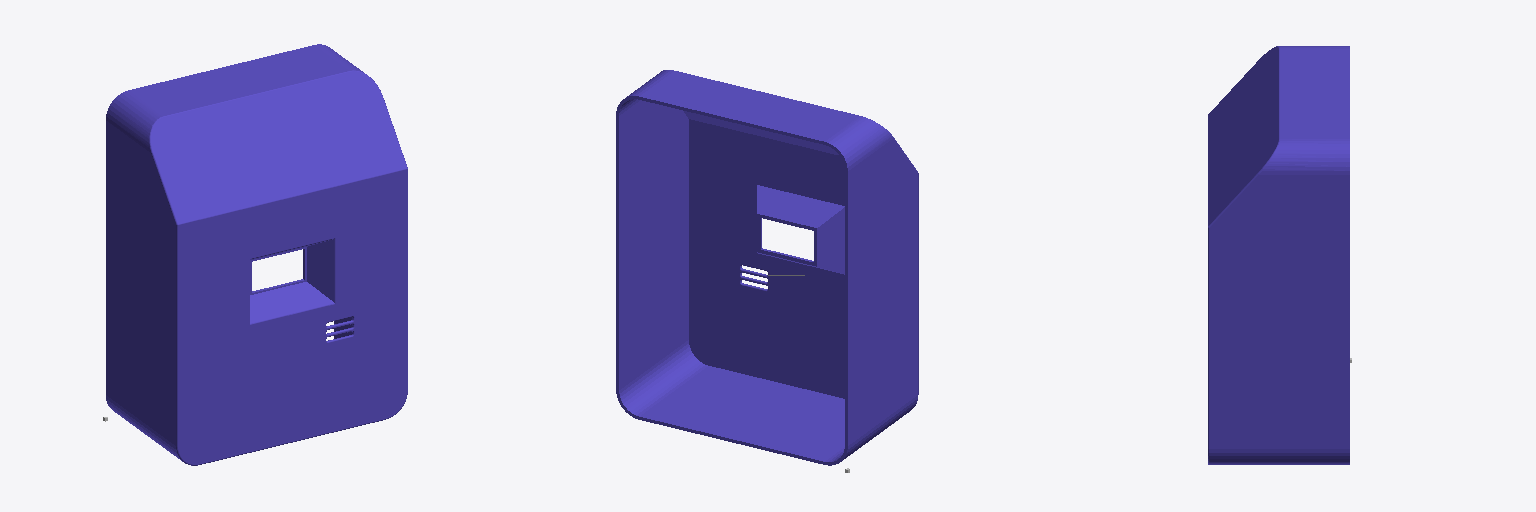
File: shell.obj
3 views of the same model, side by side, from view 1: azimuth 30°, elevation 25°; view 2: azimuth 150°, elevation 25°; view 3: azimuth 270°, elevation 25° (orthographic).
Visible parts, largest first — view 1: shell; view 2: shell; view 3: shell.
Boxes of the visible parts, x1,y1,x2,y2 form: shell: [106, 44, 407, 465]; shell: [616, 70, 918, 465]; shell: [1208, 46, 1349, 464].
Size of the model in its own units: 151 by 201 by 81.